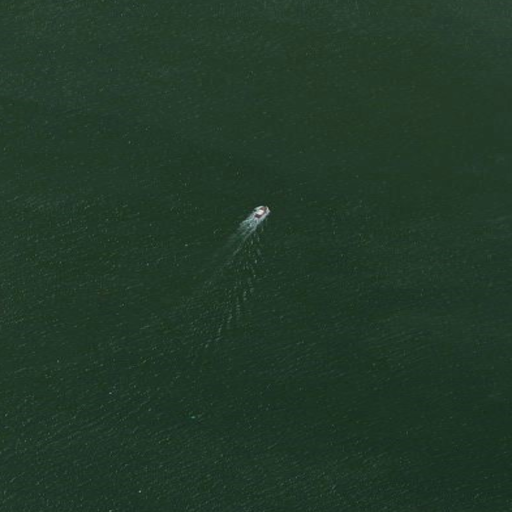ship: (250, 202, 270, 225)
